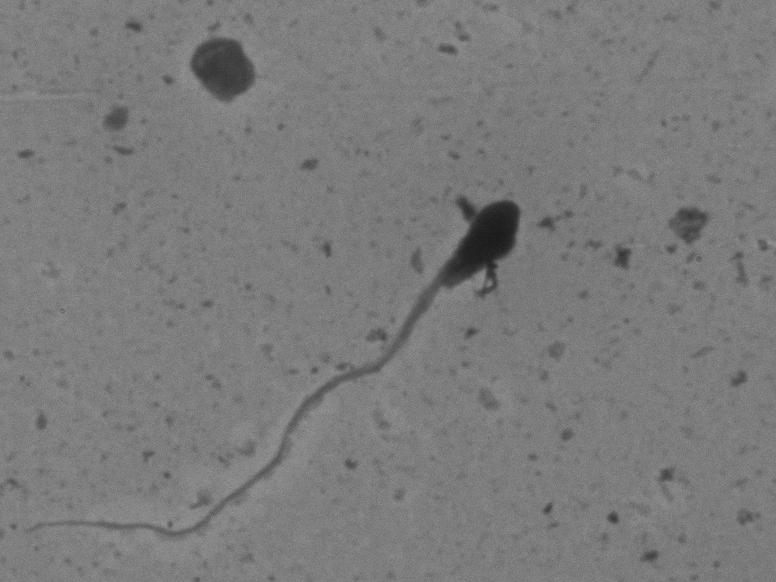Abnormal: (17, 143, 580, 554)
